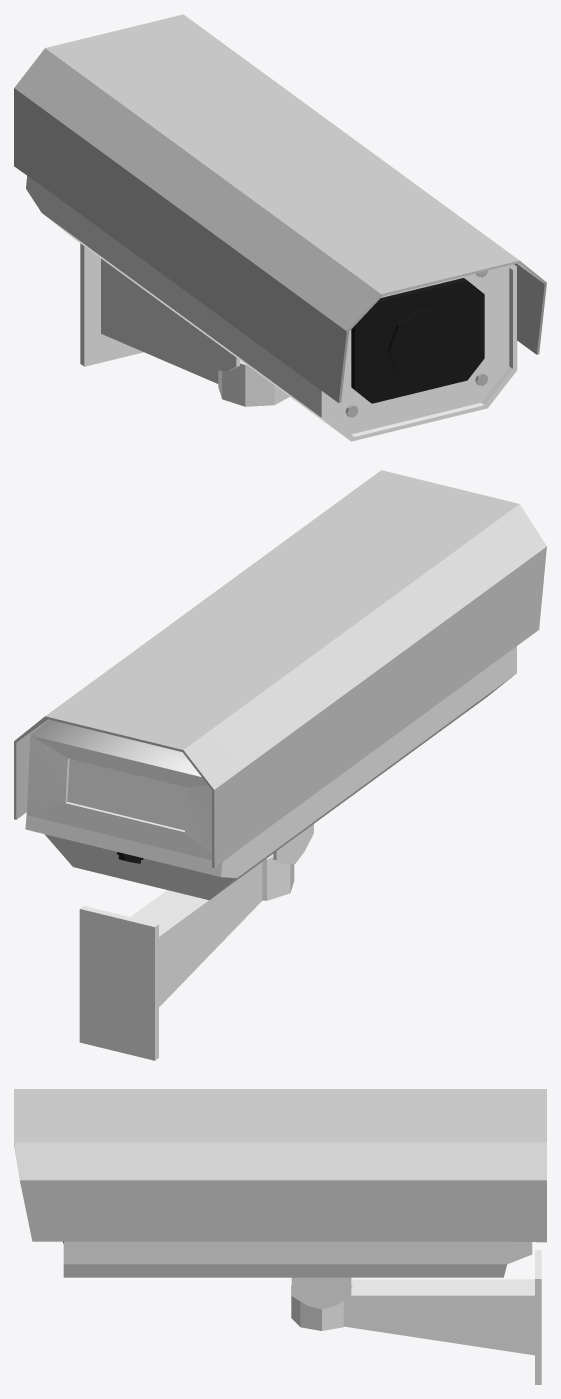
File: cctv.fbx
The picture shows the model from 3 angles, top to bottom: view 1: azimuth 30°, elevation 25°; view 2: azimuth 150°, elevation 25°; view 3: azimuth 270°, elevation 25°; orthographic projection. The views are drawn at different scales.
Visible parts, largest first — view 1: cctv; view 2: cctv; view 3: cctv.
Boxes of the visible parts, left/top/right/bottom form: cctv: left=14, top=14, right=546, bottom=441; cctv: left=14, top=470, right=546, bottom=1060; cctv: left=14, top=1089, right=546, bottom=1384.
Size of the model in its own units: 0.4016 by 0.6143 by 1.17.
1 material, 1 textured.
